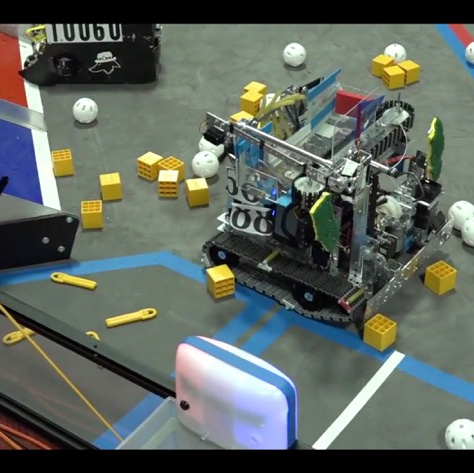robot: (195, 64, 461, 329), (13, 21, 166, 89)
